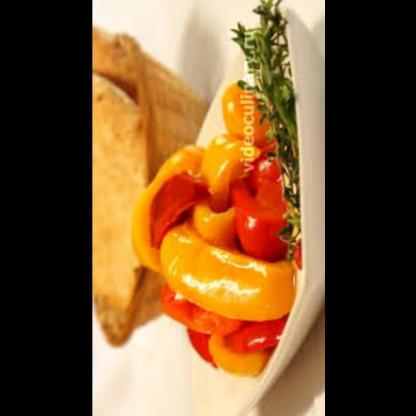bell pepper: (140, 85, 295, 378)
